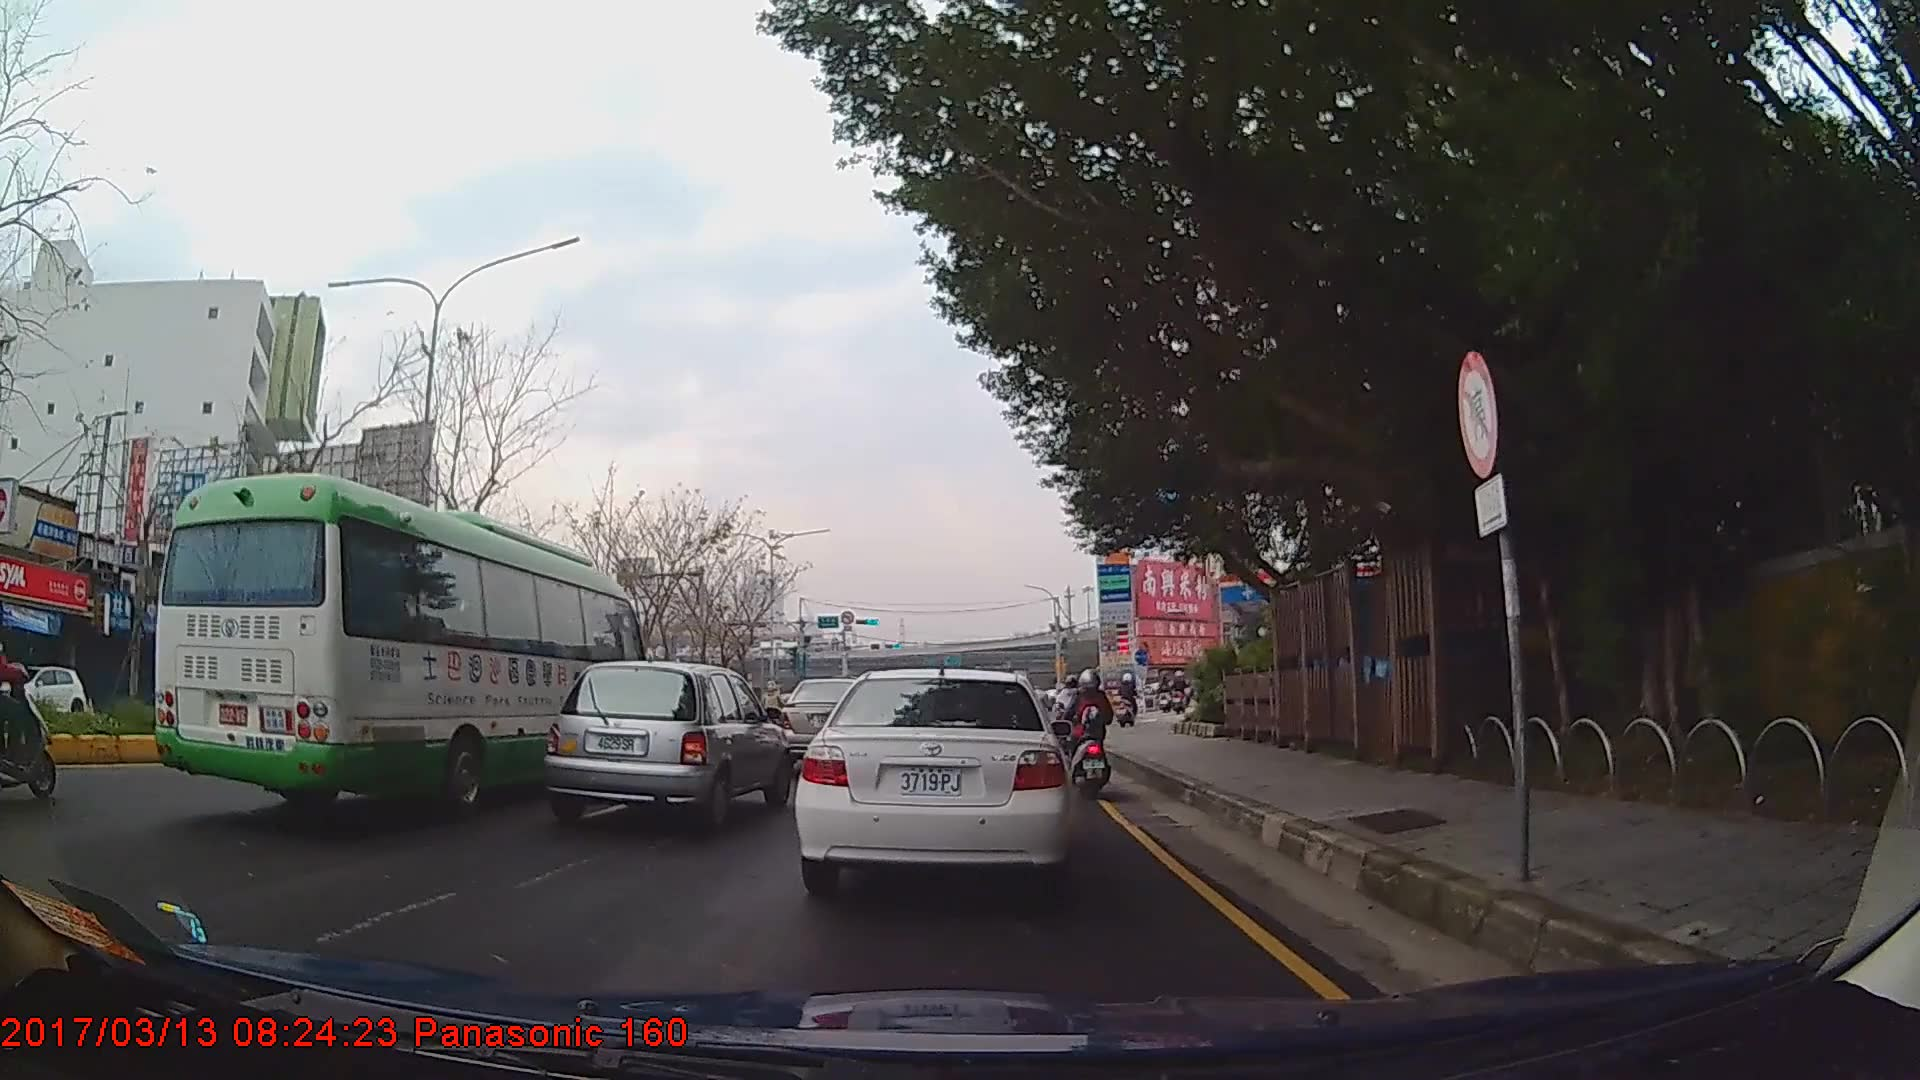rider: (1, 594, 58, 799), (1067, 670, 1113, 803), (1058, 676, 1088, 764), (1116, 674, 1140, 730), (1172, 672, 1192, 717)
vehicle: (153, 474, 647, 823), (793, 668, 1076, 894), (543, 656, 790, 834), (775, 675, 873, 766), (0, 660, 91, 719)
